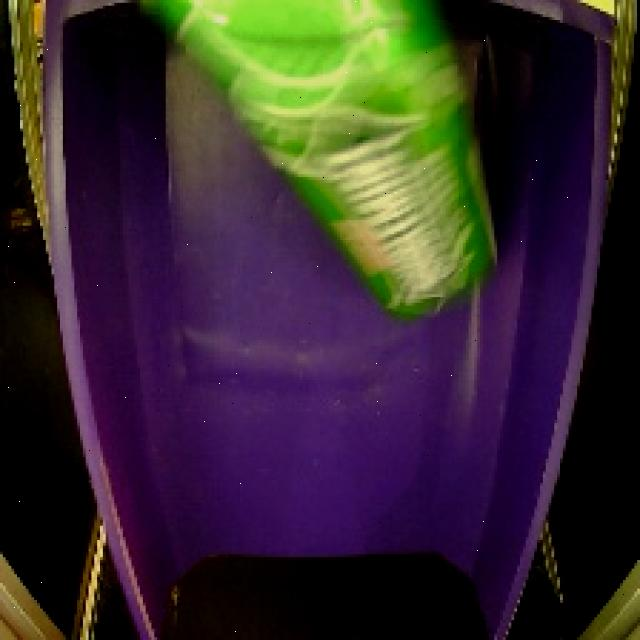metal: (124, 0, 526, 335)
